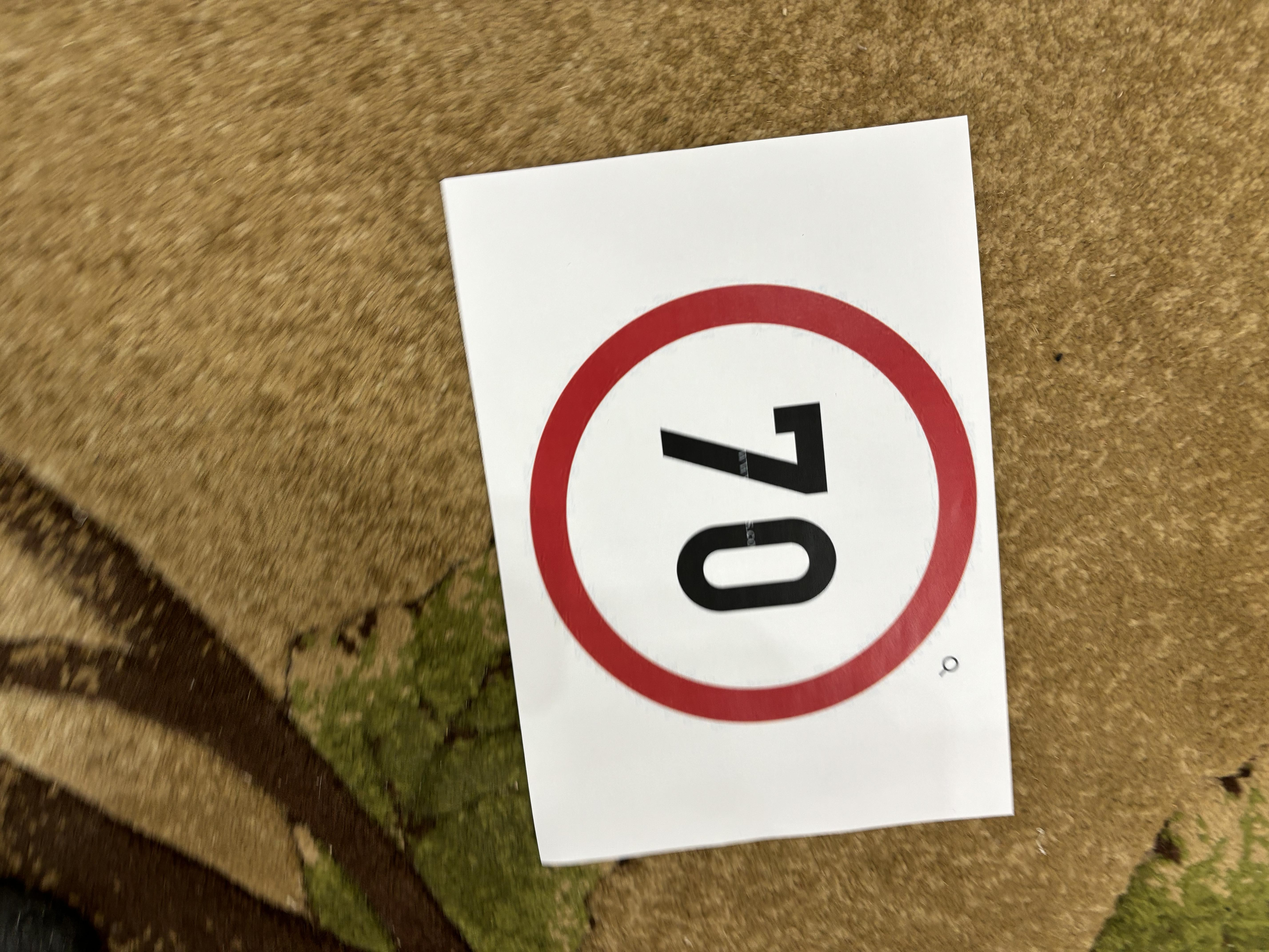70-Speed: (530, 280, 987, 732)
